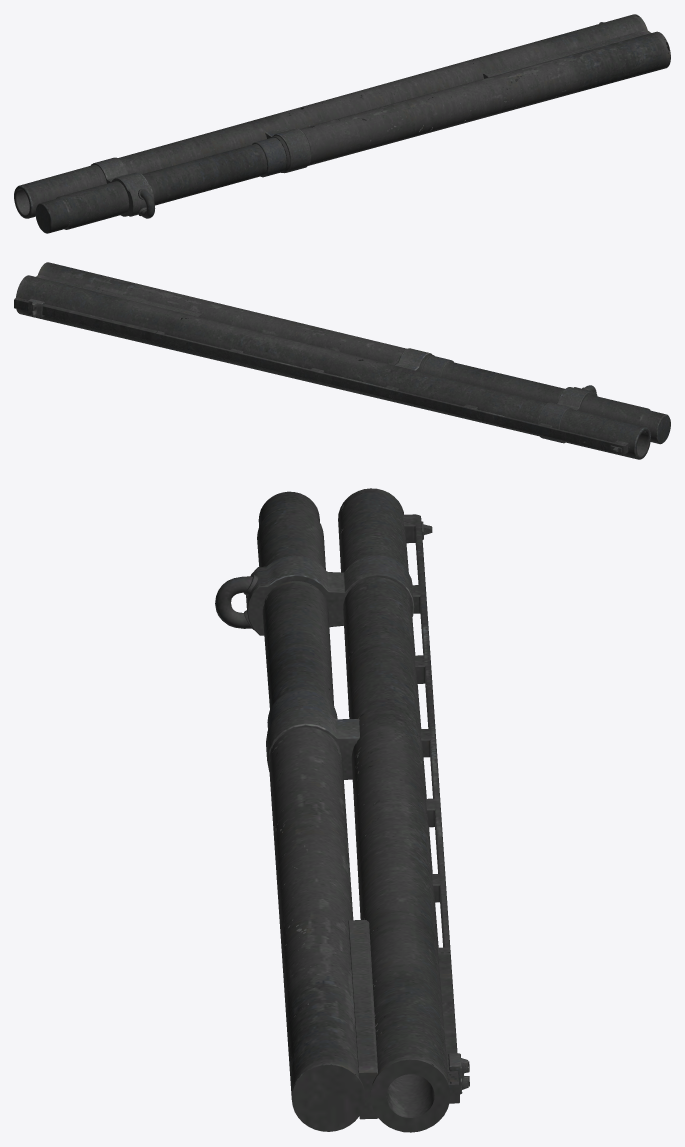
Rendered from sm71_909_shotgunpartsbarrel.fbx.
3 views of the same model, one above another, from view 1: azimuth 30°, elevation 25°; view 2: azimuth 150°, elevation 25°; view 3: azimuth 270°, elevation 25° (orthographic). The views are drawn at different scales.
Visible parts, largest first — view 1: LOD_1_Group_0_Sub_1__sm71_100_ShotgunParts01A_Mat; view 2: LOD_1_Group_0_Sub_1__sm71_100_ShotgunParts01A_Mat; view 3: LOD_1_Group_0_Sub_1__sm71_100_ShotgunParts01A_Mat.
Part boxes in pixels (x1,y1,x2,y2): LOD_1_Group_0_Sub_1__sm71_100_ShotgunParts01A_Mat: (14,14,670,233); LOD_1_Group_0_Sub_1__sm71_100_ShotgunParts01A_Mat: (14,262,670,459); LOD_1_Group_0_Sub_1__sm71_100_ShotgunParts01A_Mat: (215,488,469,1132).
Size of the model in its own units: 0.5104 by 0.0444 by 0.0922.
